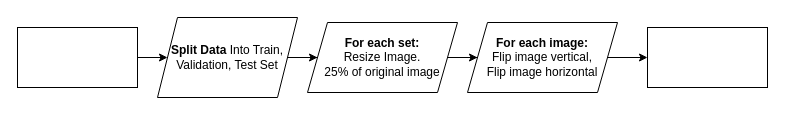
Image size: 785x115. Some labels were removed from this diagram. The shapes that lost their labels are listed below. From the top down, each one's box as (x1, y1, x2, y2) in pixels, then its label:
(16, 26, 138, 88): Original Image
(646, 26, 768, 88): Output: 1 - resized 1 - horizontal flip 1 - vertical flip
